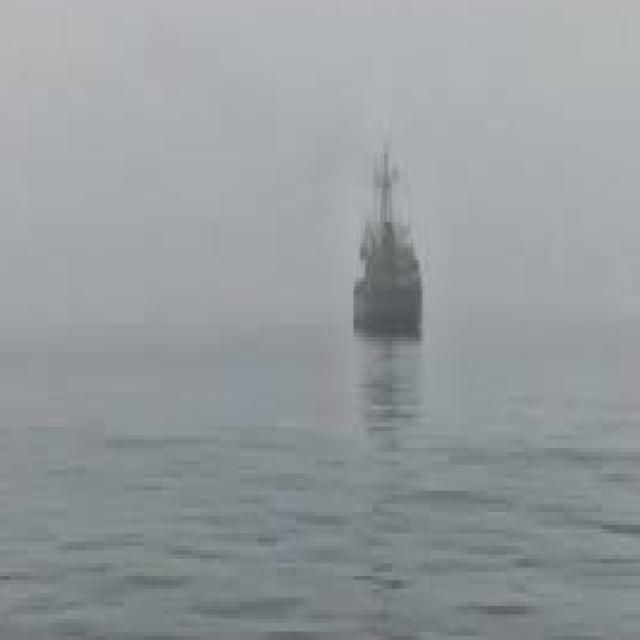navalvessels: (338, 155, 434, 363)
